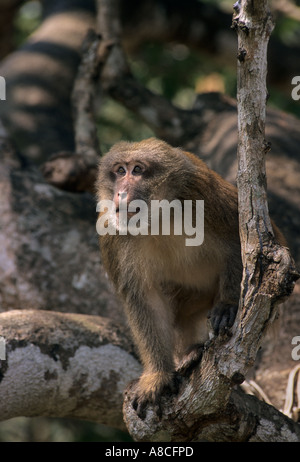monkey: (86, 134, 286, 408)
